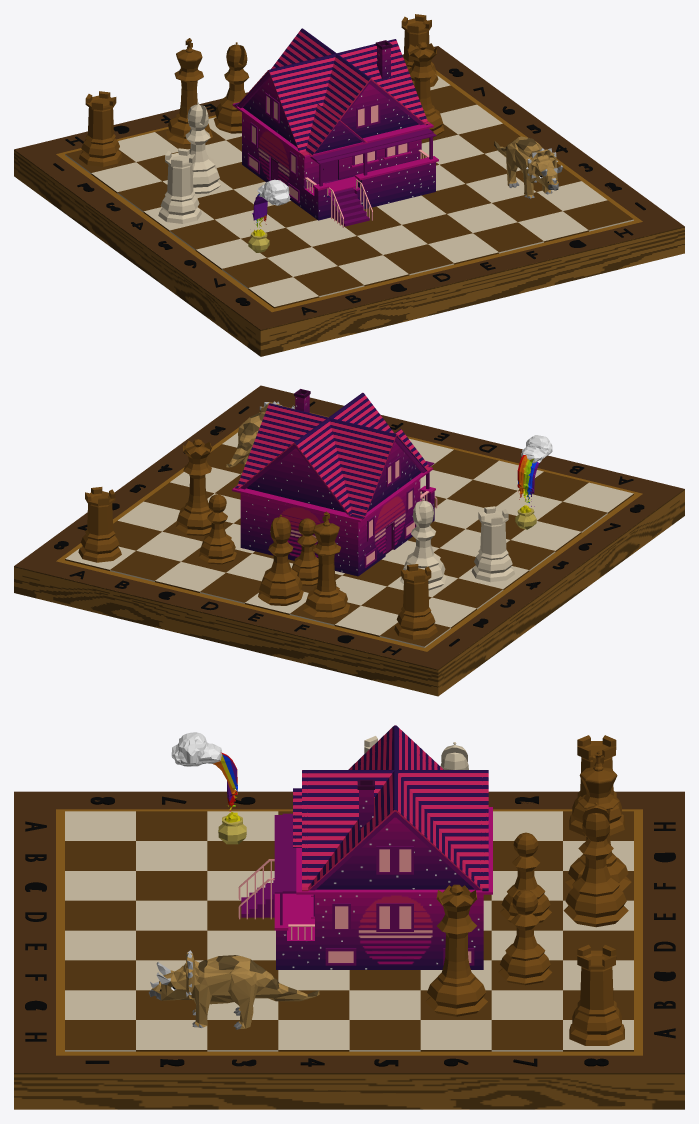
The picture shows the model from 3 angles, top to bottom: view 1: azimuth 30°, elevation 25°; view 2: azimuth 150°, elevation 25°; view 3: azimuth 270°, elevation 25°; orthographic projection. The views are drawn at different scales.
Parts seen in each view (by area): view 1: Cube.002, Cube.156, ANIMAL_Triceratops, OBJRANDOM_RAINBOW; view 2: Cube.002, Cube.156, OBJRANDOM_RAINBOW, ANIMAL_Triceratops; view 3: Cube.002, Cube.156, ANIMAL_Triceratops, OBJRANDOM_RAINBOW.
Part boxes in pixels (x1,y1,x2,y2): Cube.002: (14, 14, 684, 356); Cube.156: (232, 28, 438, 227); ANIMAL_Triceratops: (494, 136, 562, 198); OBJRANDOM_RAINBOW: (248, 179, 290, 252); Cube.002: (14, 385, 684, 696); Cube.156: (232, 389, 437, 576); OBJRANDOM_RAINBOW: (515, 435, 552, 529); ANIMAL_Triceratops: (226, 401, 294, 467); Cube.002: (14, 735, 684, 1109); Cube.156: (238, 725, 492, 969); ANIMAL_Triceratops: (148, 950, 319, 1029); OBJRANDOM_RAINBOW: (171, 732, 246, 844).
Bounding box in the file's own units: 3981 × 1492 × 4012.
31 materials, 4 textured.
